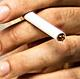smoke: (18, 7, 66, 43)
